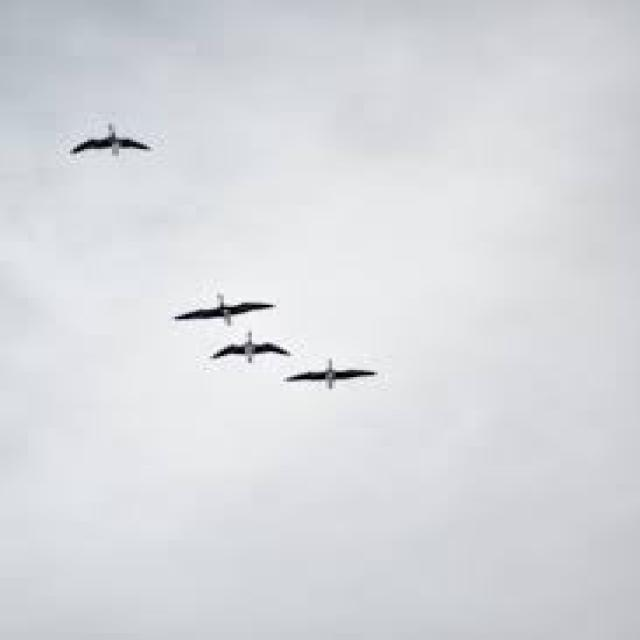bird: (198, 327, 320, 385), (161, 280, 290, 327), (40, 116, 170, 158), (283, 352, 378, 390)
